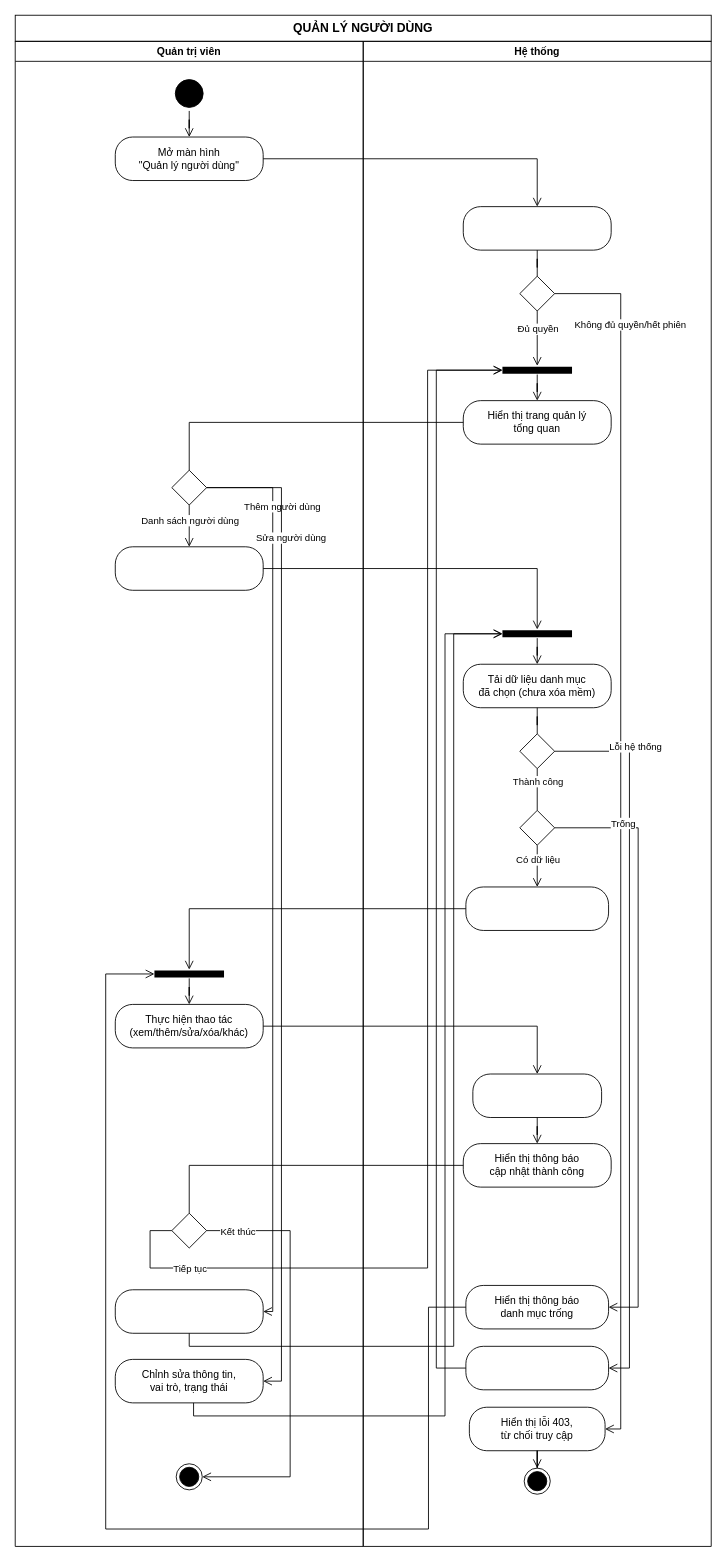
Image size: 726x1562. Some labels were removed from this diagram. The box of each missing label's shape, as (x1, y1, x2, y2) in pixels:
Cập nhật dữ liệu tương ứng: (472, 1073, 602, 1118)
Hiển thị danh sách dữ liệu tương ứng: (465, 886, 609, 930)
Hiển thị thông báo lỗi tải dữ liệu: (465, 1345, 609, 1390)
Kiểm tra phiên đăng nhập và quyền quản lý: (462, 206, 611, 250)
Nhập họ tên, tài khoản, vai trò, trạng thái: (114, 1289, 263, 1333)
Tìm kiếm, lọc theo vai trò hoặc sắp xếp danh sách: (114, 546, 263, 590)
